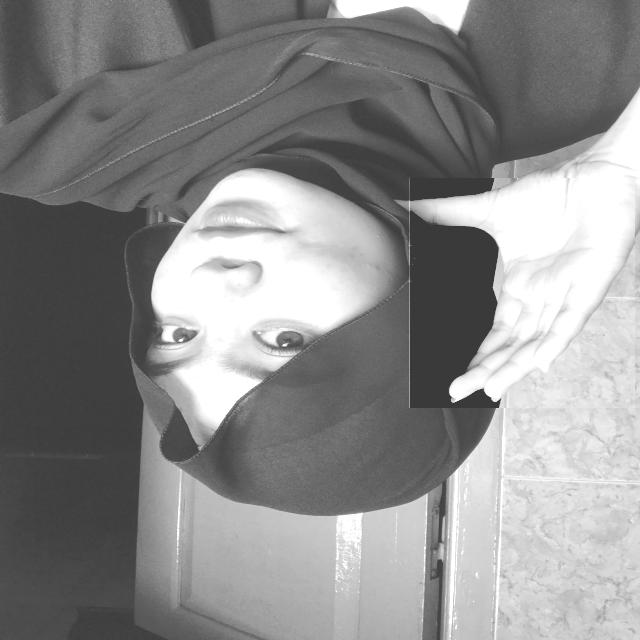mendengar: (408, 178, 634, 408)
